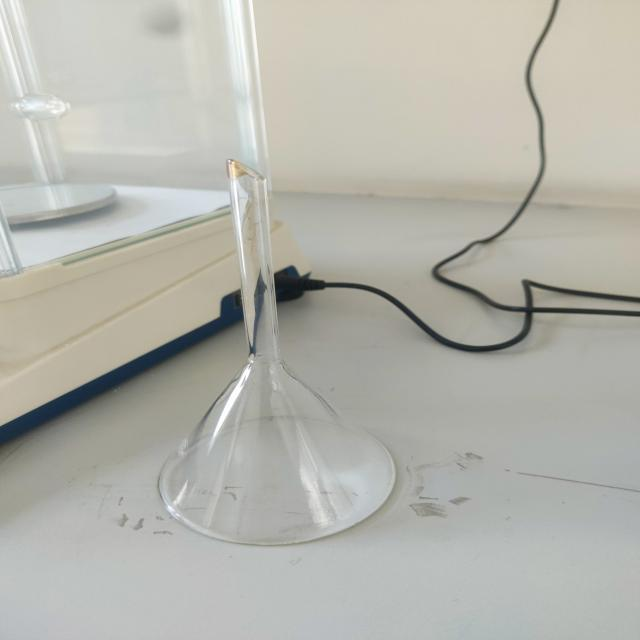Funnel: (109, 121, 451, 594)
